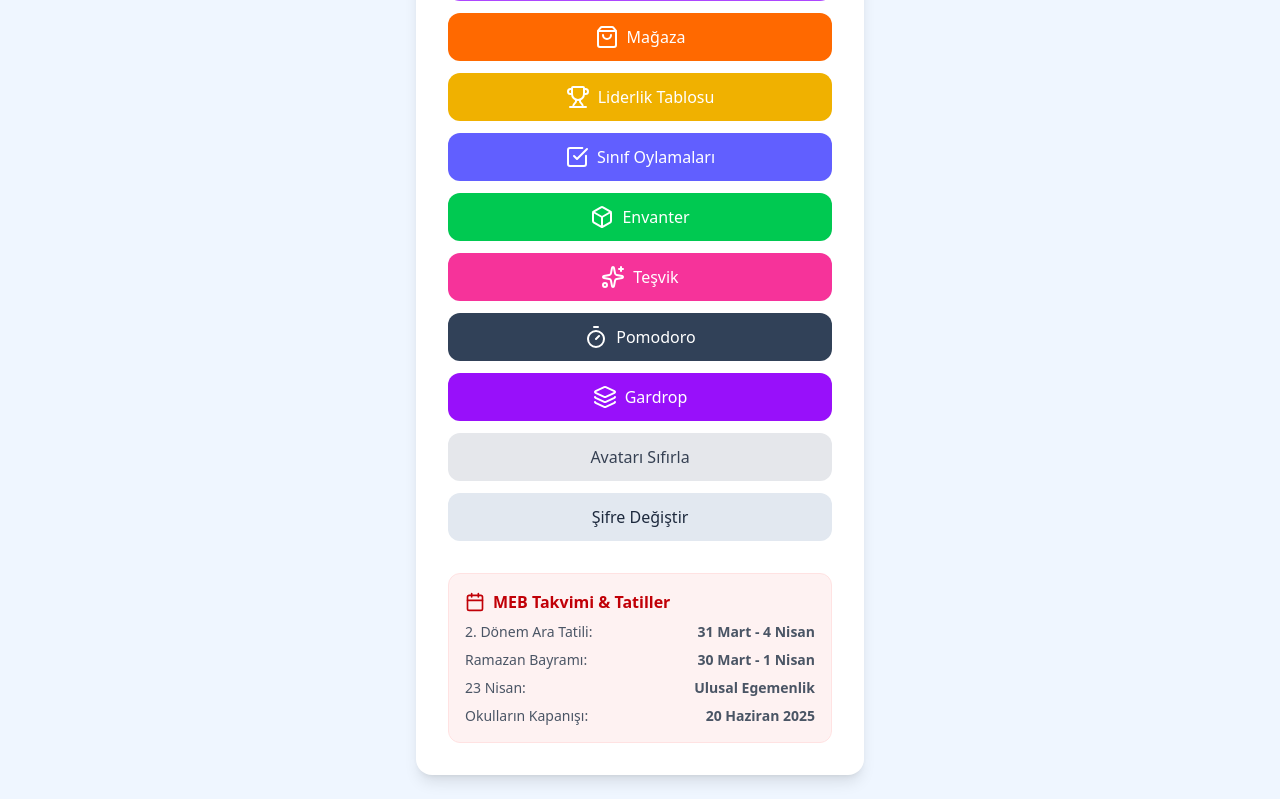
Test: StudentDashboard › opens password change modal when button clicked
The width and height of the screenshot is (1280, 799).
(page scrolled)
Click the button "Şifre Değiştir" at {"x": 640, "y": 517}, box [448,493,832,541]
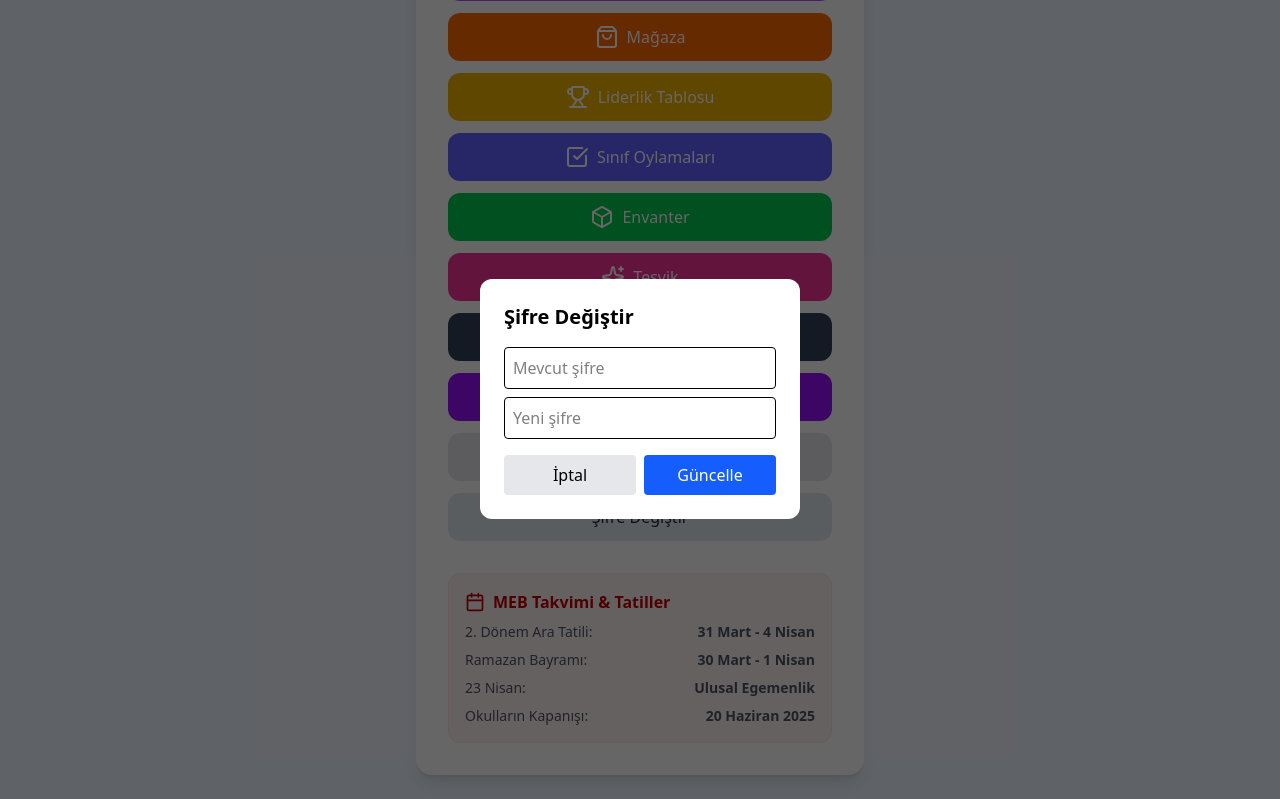
Check: the password field with placeholder "Mevcut şifre" is shown, box [504,347,776,389]
